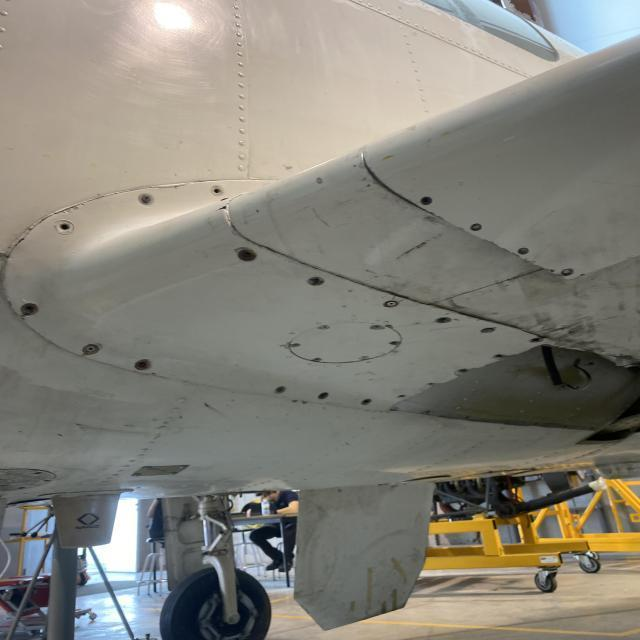Fastener Damage: (236, 248, 256, 262), (20, 303, 40, 316), (308, 276, 326, 286), (516, 245, 532, 256), (136, 359, 150, 371), (58, 221, 72, 232), (420, 196, 432, 206), (470, 222, 482, 232), (212, 187, 224, 195), (562, 268, 574, 276), (436, 316, 451, 322), (362, 398, 371, 406), (318, 392, 328, 399), (458, 367, 468, 374), (530, 337, 540, 343), (493, 354, 504, 359), (390, 341, 398, 346)
Rupture: (143, 182, 195, 193), (214, 204, 229, 213)
